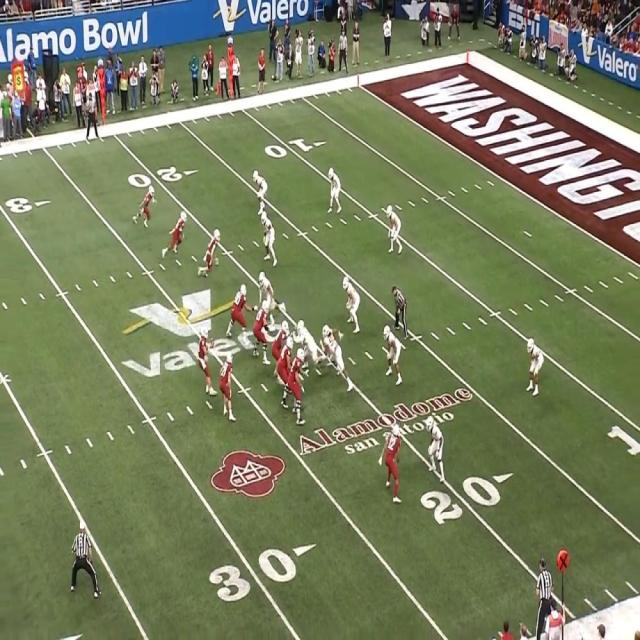center: (270, 318, 294, 356)
db: (528, 338, 546, 396), (427, 422, 441, 477), (328, 166, 341, 213), (254, 169, 268, 209), (388, 205, 400, 251)
lb: (339, 274, 362, 338), (260, 213, 277, 263), (385, 323, 400, 378)
qb: (198, 327, 214, 394)
skill: (384, 425, 406, 498), (221, 352, 236, 422), (204, 228, 222, 278), (171, 212, 187, 255), (138, 188, 153, 226)
